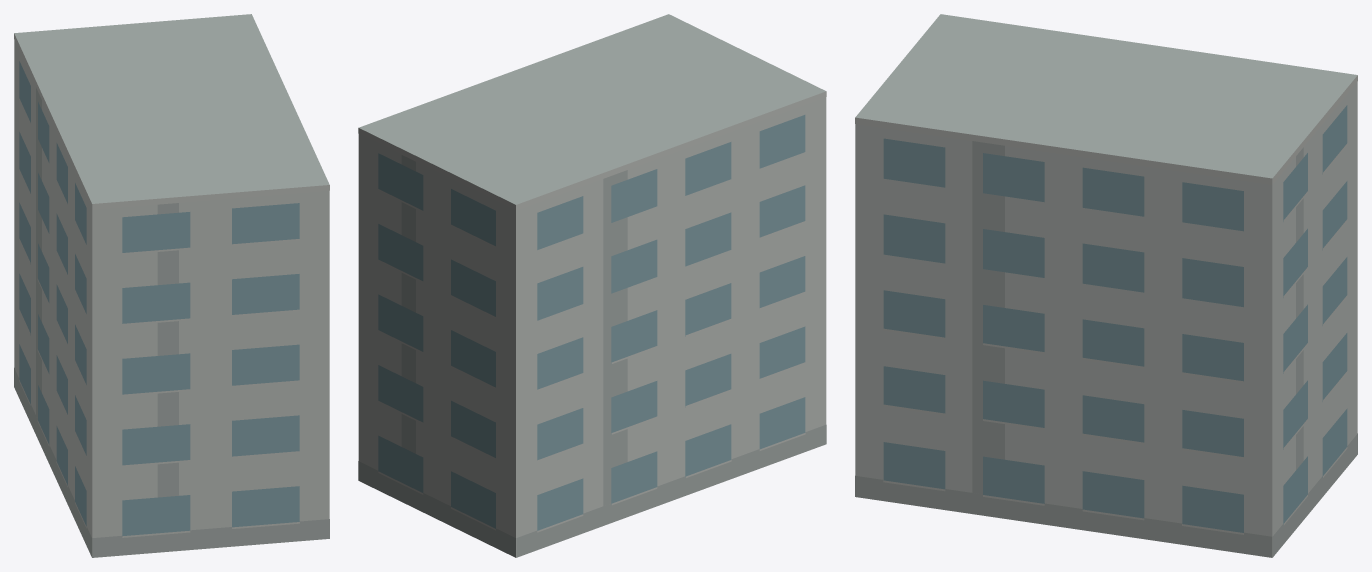
File: survey-upis-32854277.glb
3 renders of one model, left to right at view 1: azimuth 30°, elevation 25°; view 2: azimuth 150°, elevation 25°; view 3: azimuth 270°, elevation 25°, orthographic. The views are drawn at different scales.
Parts seen in each view (by area): view 1: survey-upis-32854277.tmp; view 2: survey-upis-32854277.tmp; view 3: survey-upis-32854277.tmp.
Part boxes in pixels (box(x1,y1,x2,y2)): survey-upis-32854277.tmp: box(14, 14, 329, 557); survey-upis-32854277.tmp: box(358, 14, 826, 557); survey-upis-32854277.tmp: box(855, 14, 1357, 557).
Bounding box in the file's own units: 13.58 × 14.6 × 17.54.
